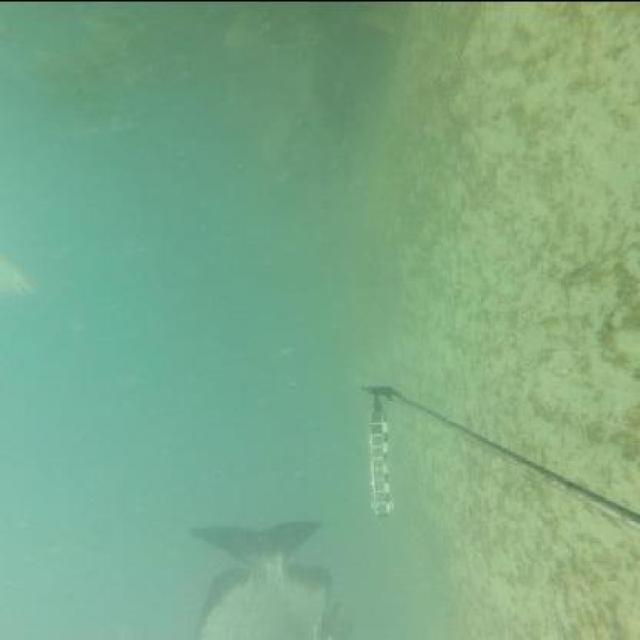acanthopagrus_palmaris: (188, 514, 354, 640)
